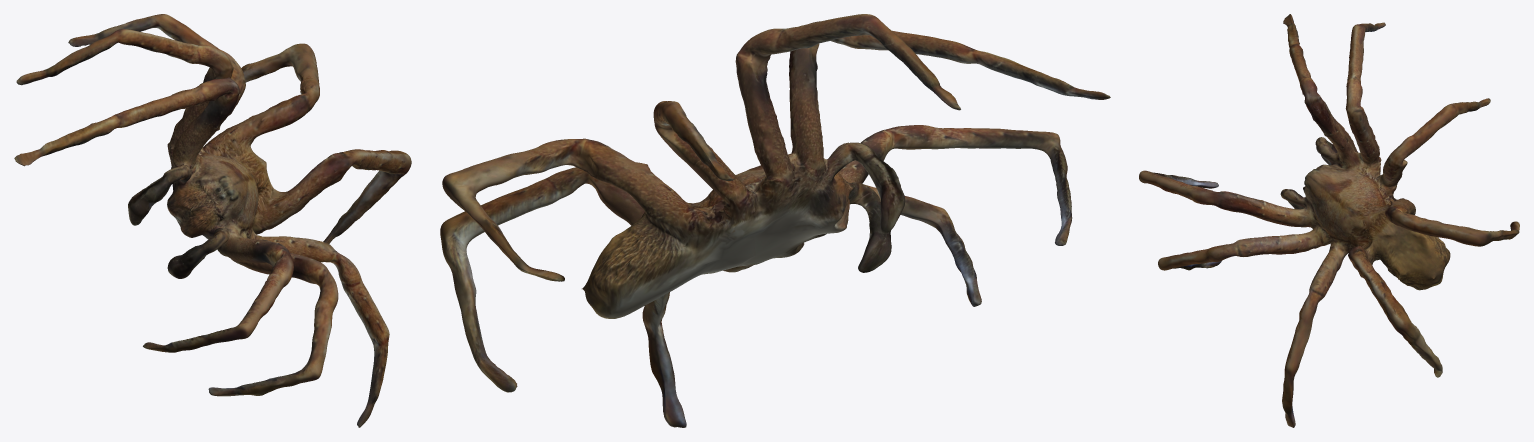
The model's file is aranha.glb.
The picture shows the model from 3 angles, left to right: view 1: azimuth 30°, elevation 25°; view 2: azimuth 150°, elevation 25°; view 3: azimuth 270°, elevation 25°; orthographic projection. The views are drawn at different scales.
Parts seen in each view (by area): view 1: 3DModel; view 2: 3DModel; view 3: 3DModel.
Part boxes in pixels (x1,y1,x2,y2): 3DModel: [14, 14, 411, 427]; 3DModel: [440, 14, 1110, 427]; 3DModel: [1139, 14, 1519, 427].
Size of the model in its own units: 0.5085 by 0.4283 by 0.4535.
1 material, 1 textured.
